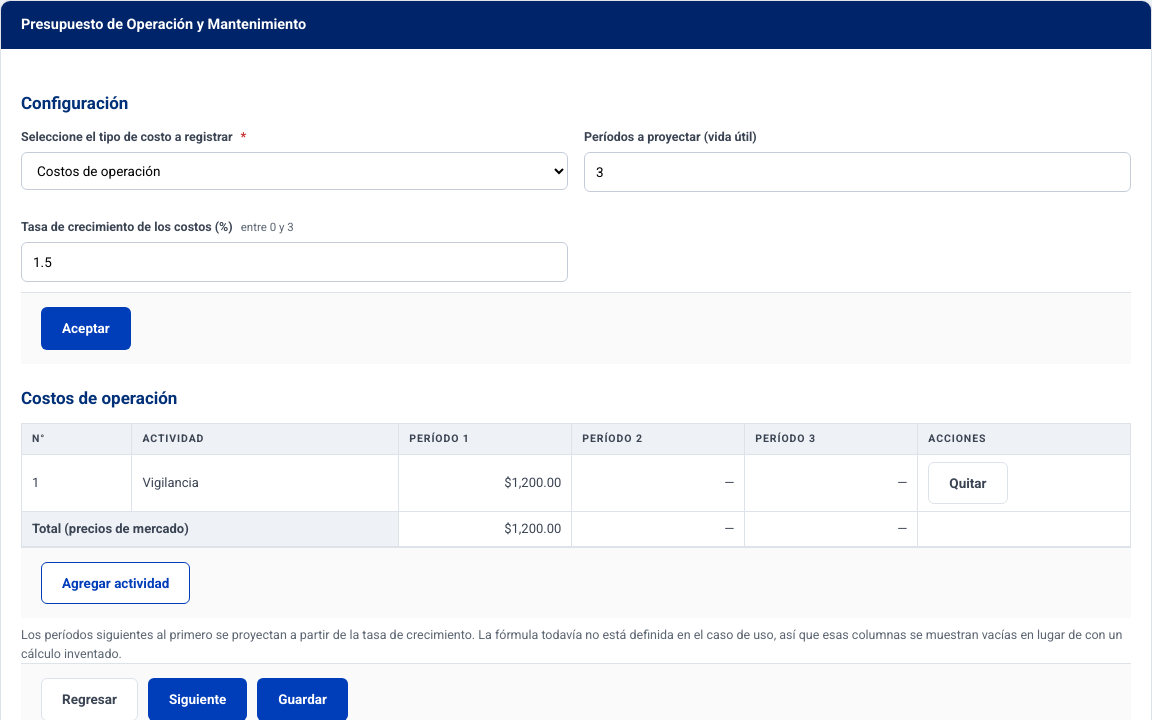
Test case: PresupuestoOmPage (CU-PRE-18) › no registra una actividad sin nombre
This screenshot has width=1152, height=720.
Click the button "Agregar actividad" at (116, 583), box [41,562,190,604]
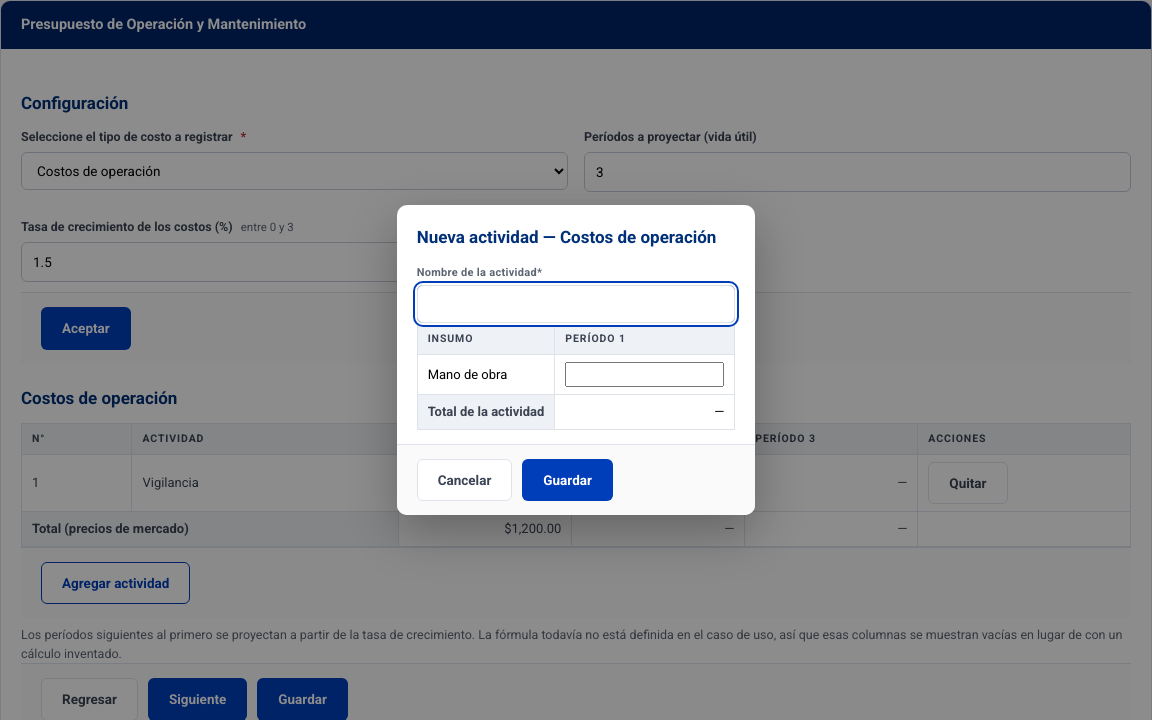
Type "800" into the field named "Costo de Mano de obra" at (645, 374), box [565,362,724,387]
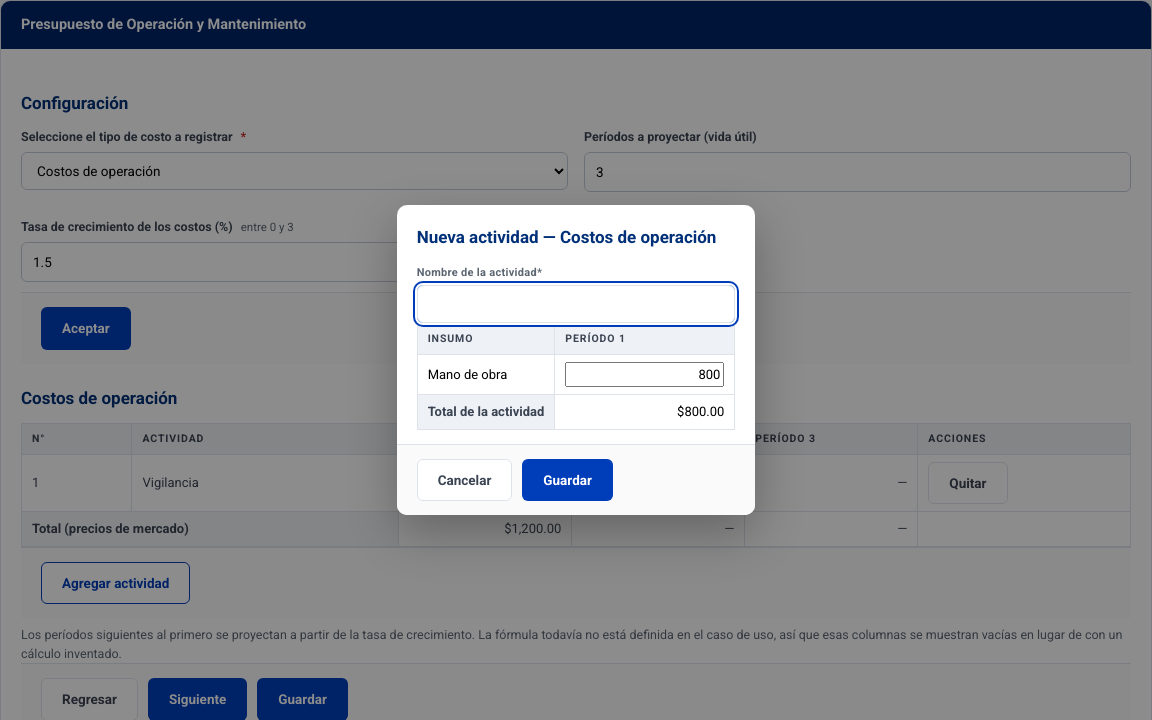
Click the button "Guardar" at (568, 480), box [522,458,613,501]
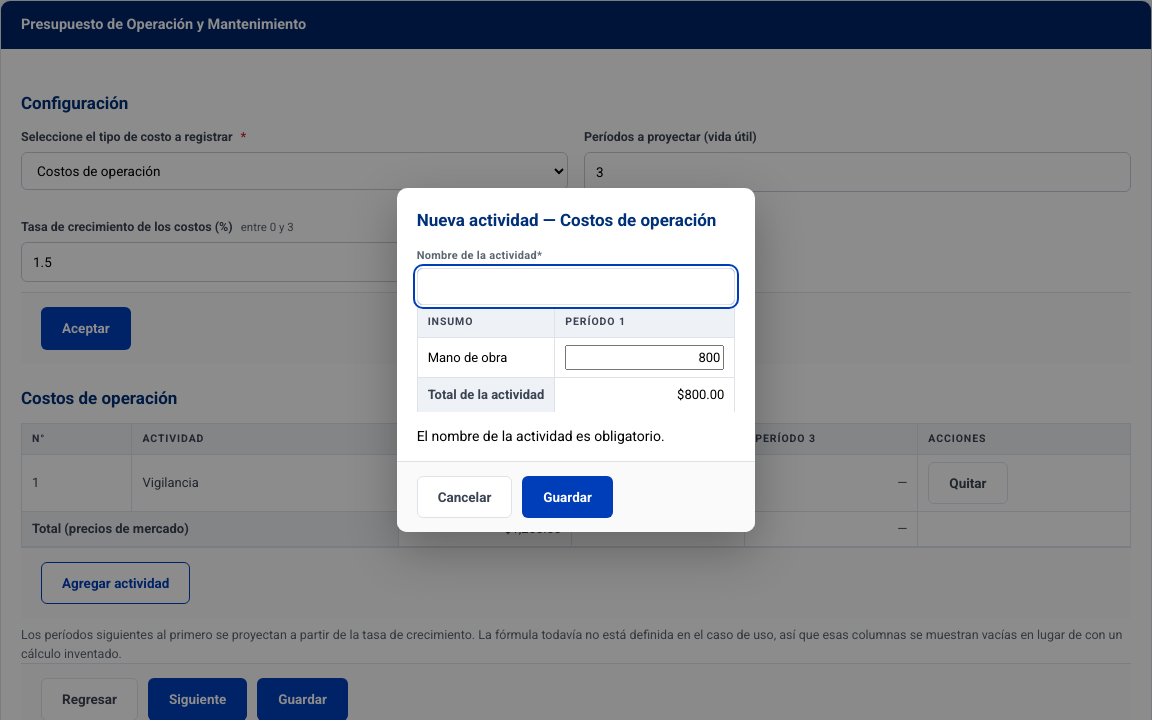
expect the message shows "nombre de la actividad es obligatorio": met, box [417,428,665,444]
